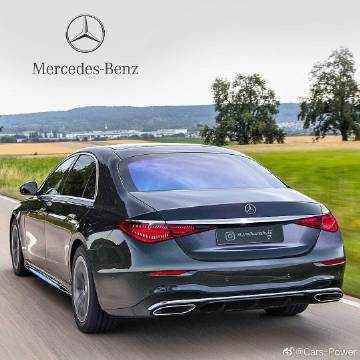other: (13, 132, 348, 328)
